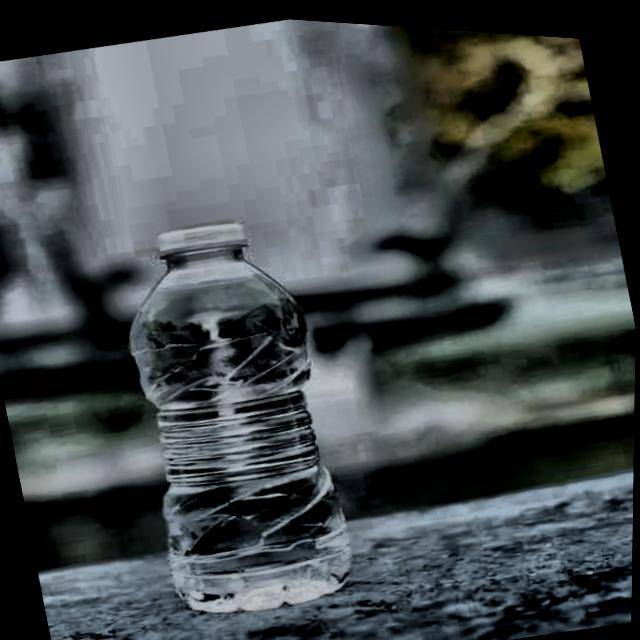Bottles: (95, 174, 391, 640)
